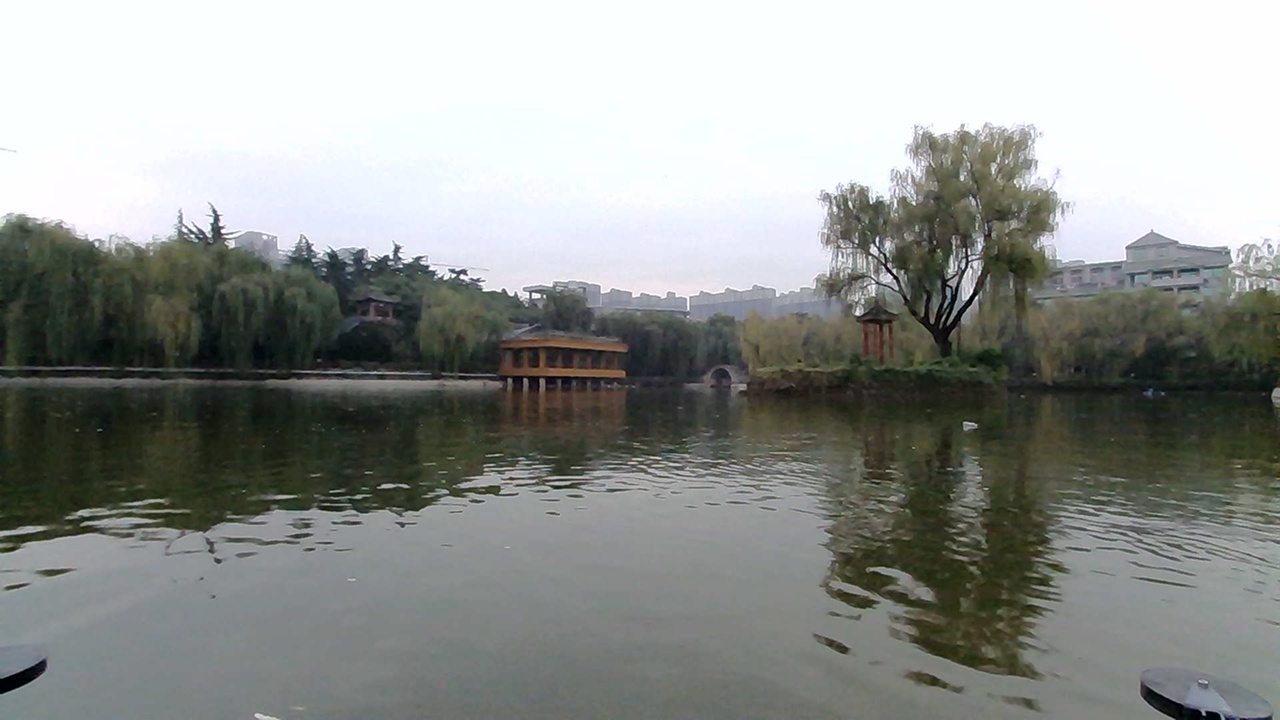bottle: (939, 406, 994, 438)
